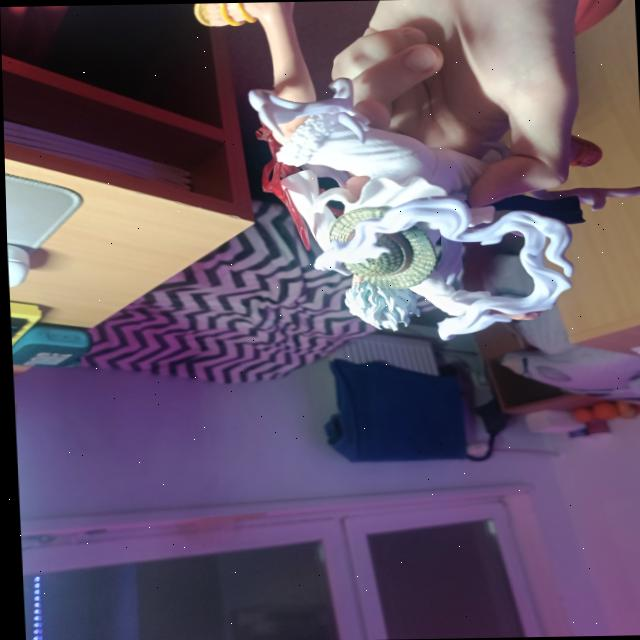luffy: (197, 0, 613, 350)
